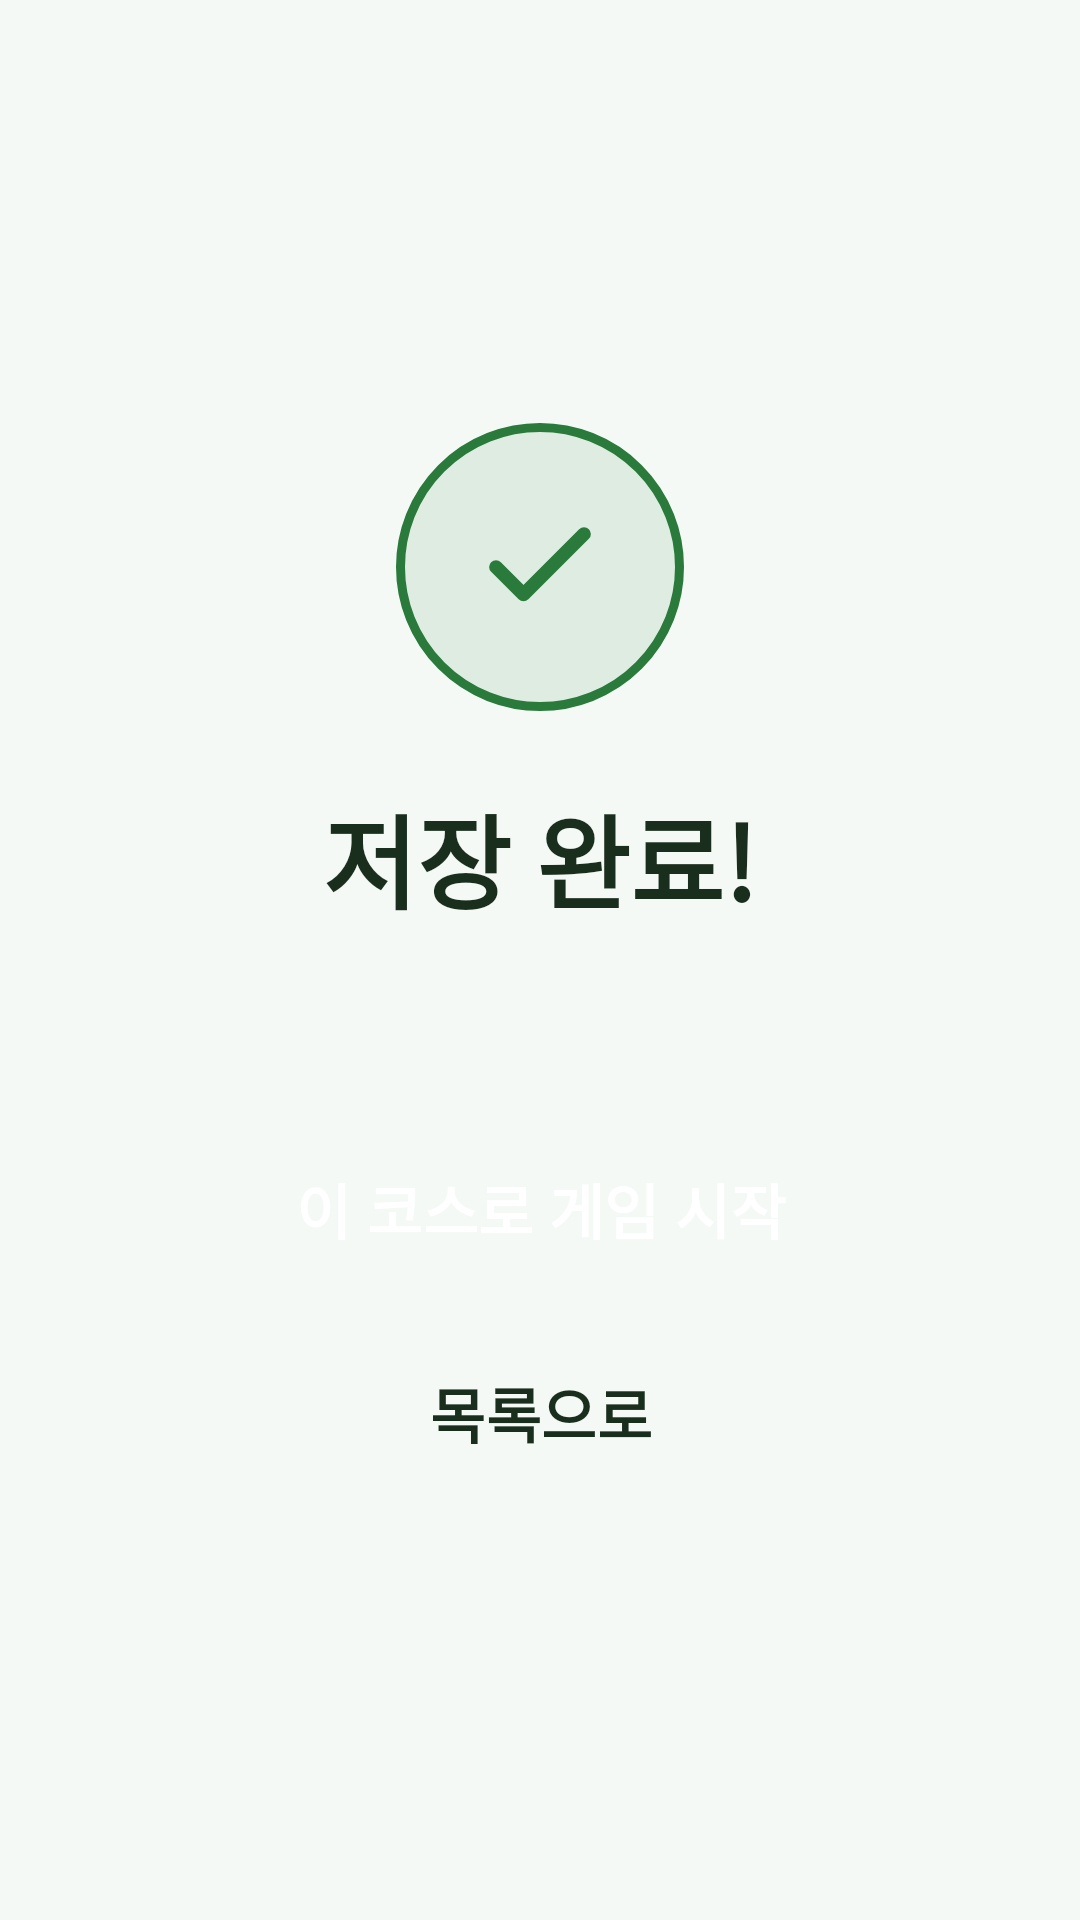

Named icons in this screenshot (1080w x 1920h) and their centers, [x,y]:
check: [540,564]
